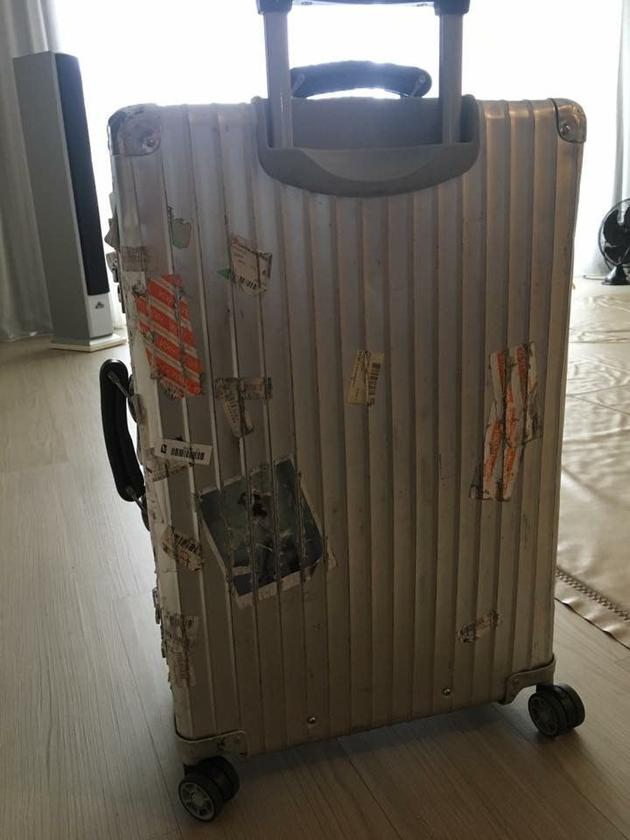box: (107, 96, 588, 753)
handle: (99, 359, 150, 530), (290, 61, 432, 99)
wheel: (177, 756, 241, 822), (528, 682, 586, 736)
